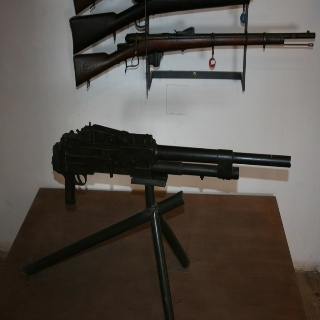rifle: (50, 119, 296, 192), (73, 26, 316, 86)
